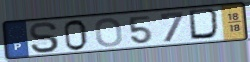0: (62, 18, 89, 51)
5: (127, 14, 155, 45)
7: (159, 10, 186, 44)
D: (187, 8, 224, 42)
O: (94, 17, 125, 48)
S: (28, 20, 61, 54)
